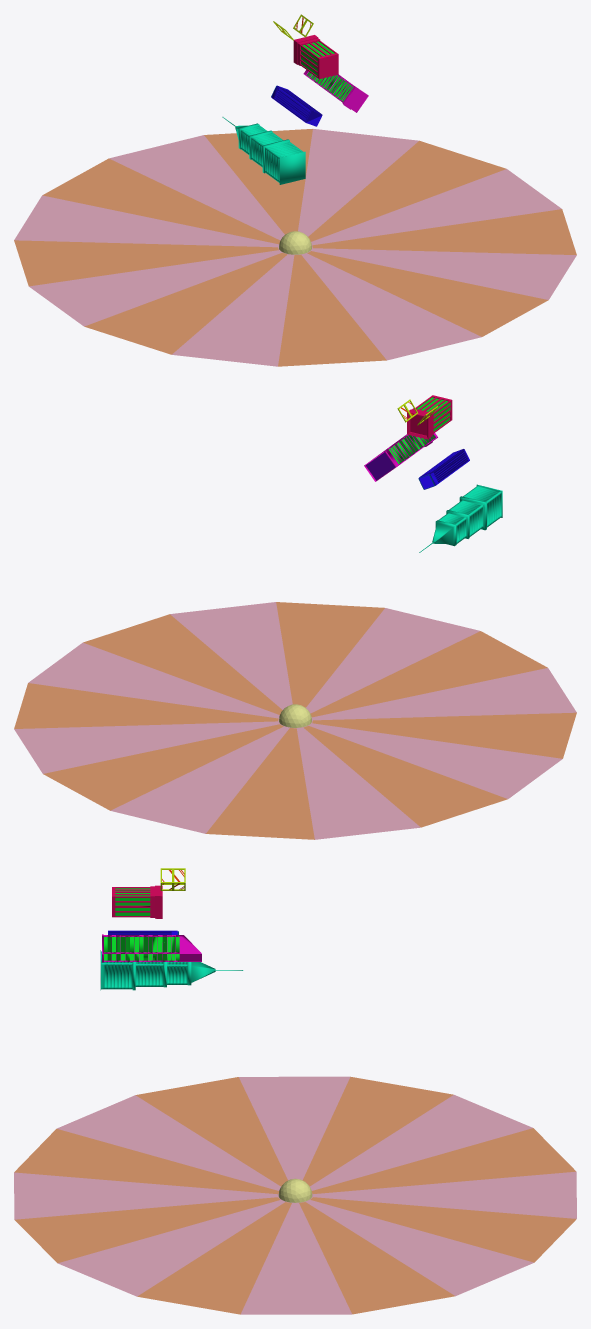
Rendered from buildings.gltf.
3 renders of one model, top to bottom at view 1: azimuth 30°, elevation 25°; view 2: azimuth 150°, elevation 25°; view 3: azimuth 270°, elevation 25°, orthographic.
Parts seen in each view (by area): view 1: buildings; view 2: buildings; view 3: buildings.
Part boxes in pixels (<box>): buildings: <box>14,14,576,366</box>; buildings: <box>14,395,576,839</box>; buildings: <box>14,868,576,1314</box>.
Size of the model in its own units: 408 by 244 by 408.
